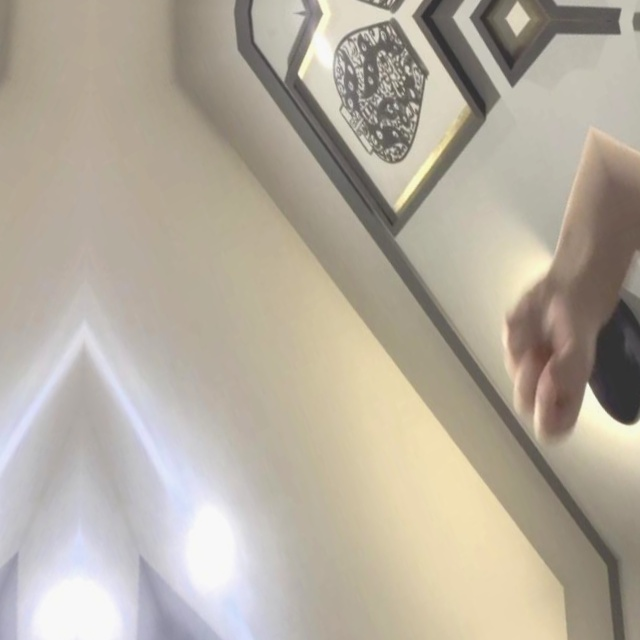Rock: (479, 271, 620, 458)
